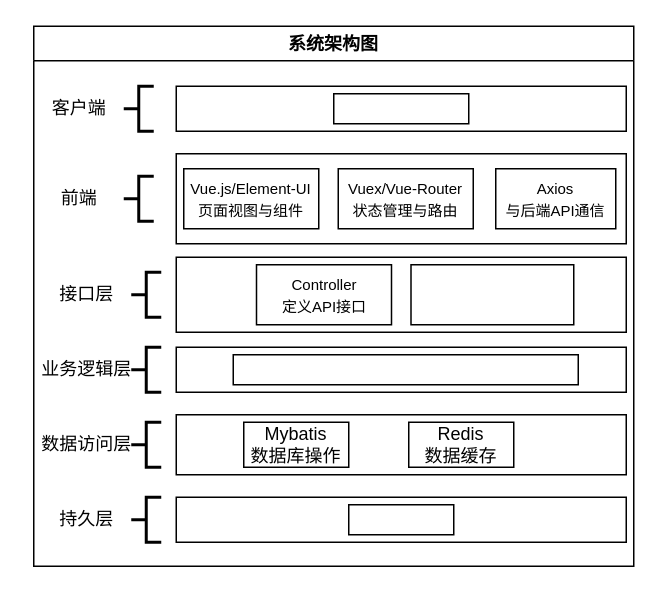
The diagram is 660 pixels wide and 593 high, and some of its shapes have lost their labels. The shapes that lost their labels are listed below. From the top down, each one's box as (x1, y1, x2, y2) in pixels, then its label:
(332, 92, 469, 124): 浏览器（PC）
(410, 263, 574, 325): SpringSecurity+JWT 安全认证与授权
(232, 353, 578, 385): Service（用户、图书、订单等核心业务）
(347, 503, 454, 535): MySQL
